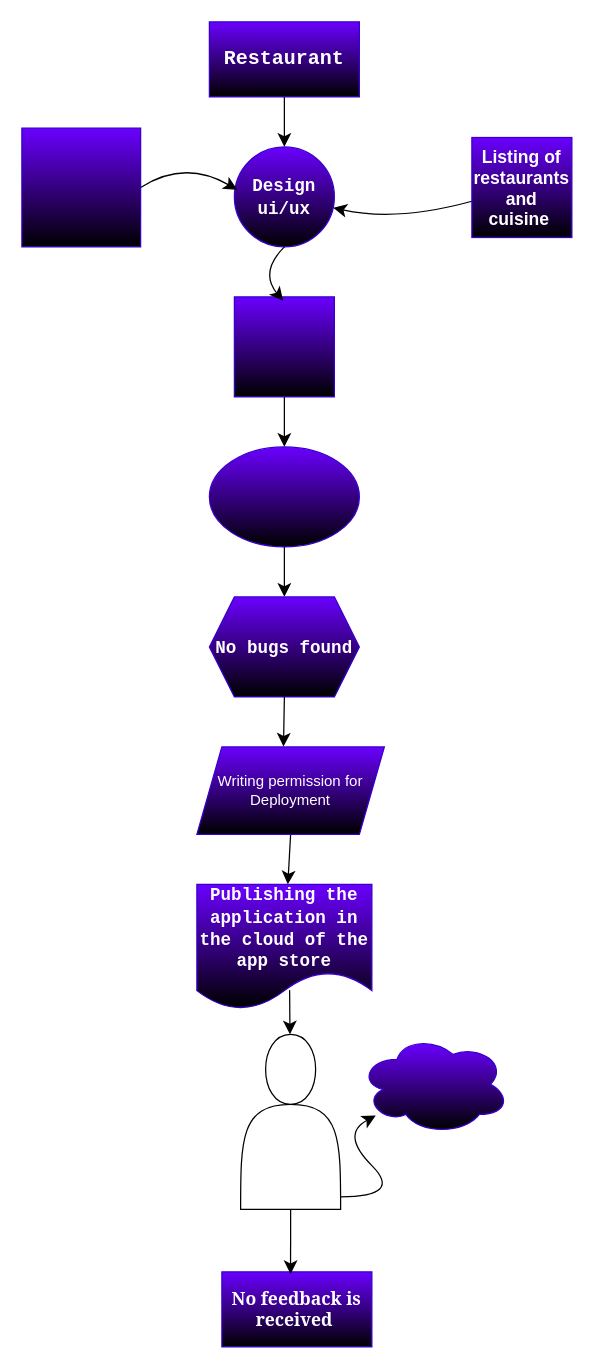
This 594x1370 diagram has some shape labels left out. The centre of each missing label's shape, as x and y in pixels:
Check out page and RTX: the point at 283,346
Compiling to APX: the point at 283,496
Customer: the point at 433,1083
Customer signup/sign in: the point at 81,187
